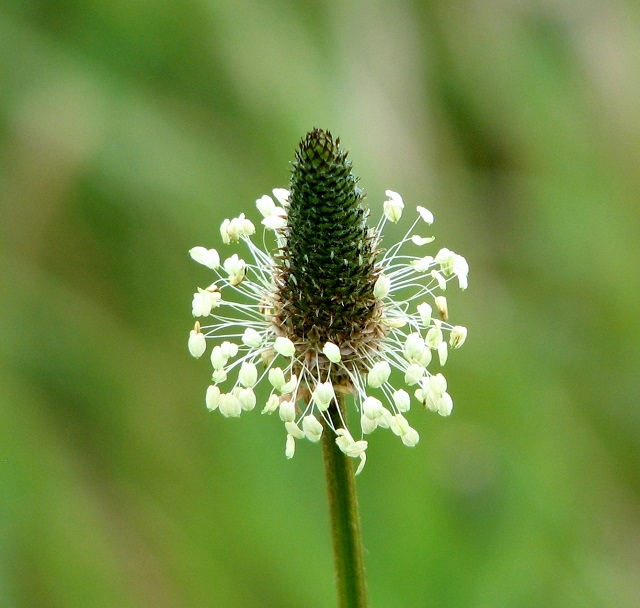buckhorn plantain: (184, 103, 483, 579)
